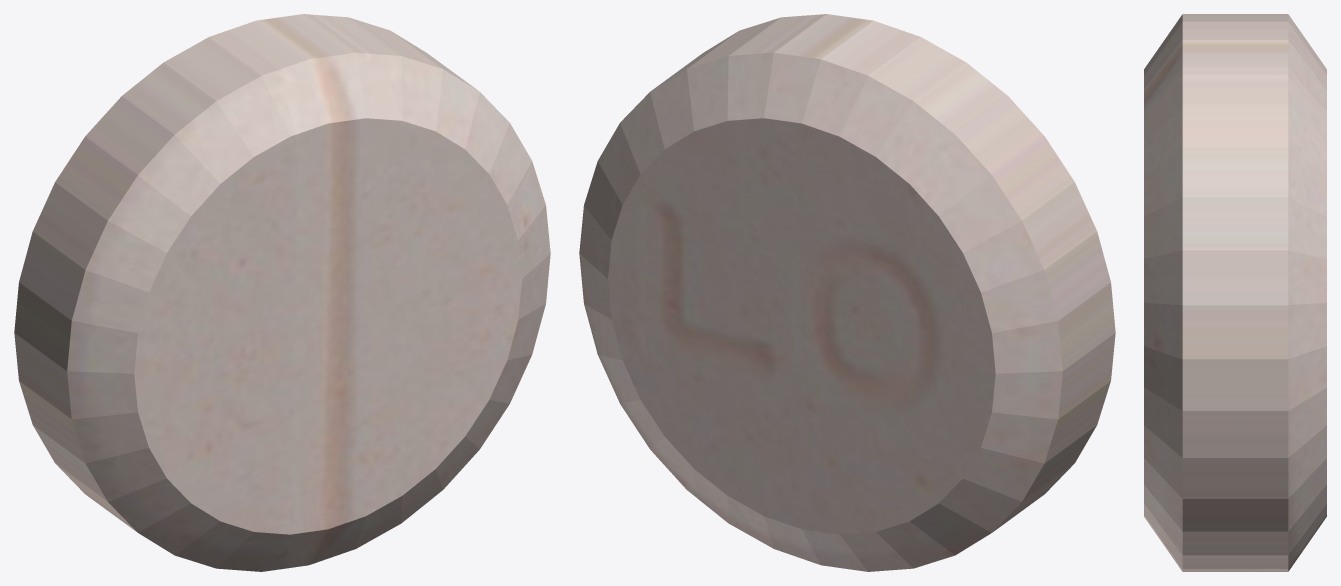
The model's file is 20140311GOPHDRGPT02805.fbx.
The picture shows the model from 3 angles, left to right: view 1: azimuth 30°, elevation 25°; view 2: azimuth 150°, elevation 25°; view 3: azimuth 270°, elevation 25°; orthographic projection.
Parts seen in each view (by area): view 1: Cylinder; view 2: Cylinder; view 3: Cylinder.
Boxes of the visible parts, left/top/right/bottom form: Cylinder: left=14, top=14, right=550, bottom=571; Cylinder: left=579, top=14, right=1115, bottom=571; Cylinder: left=1144, top=14, right=1326, bottom=571.
Bounding box in the file's own units: 0.9642 × 0.9642 × 0.3156.
